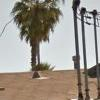Palm tree: (8, 0, 63, 72)
